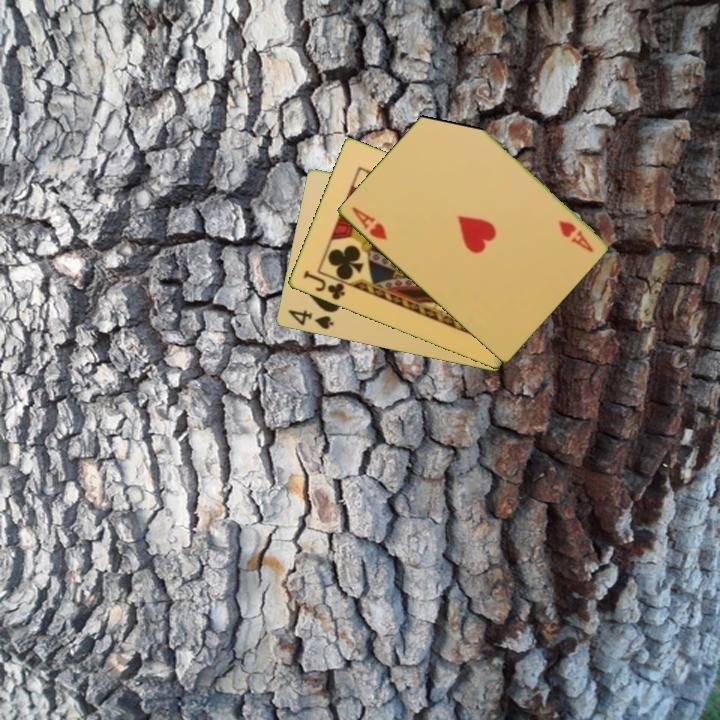4s: (284, 306, 336, 332)
Ah: (348, 203, 390, 243), (554, 217, 596, 256)
Jc: (299, 267, 348, 303)
